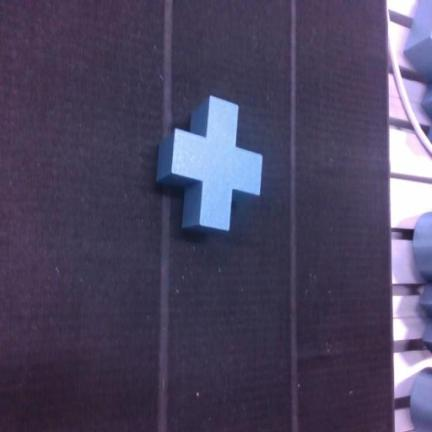cross: (157, 97, 262, 230)
